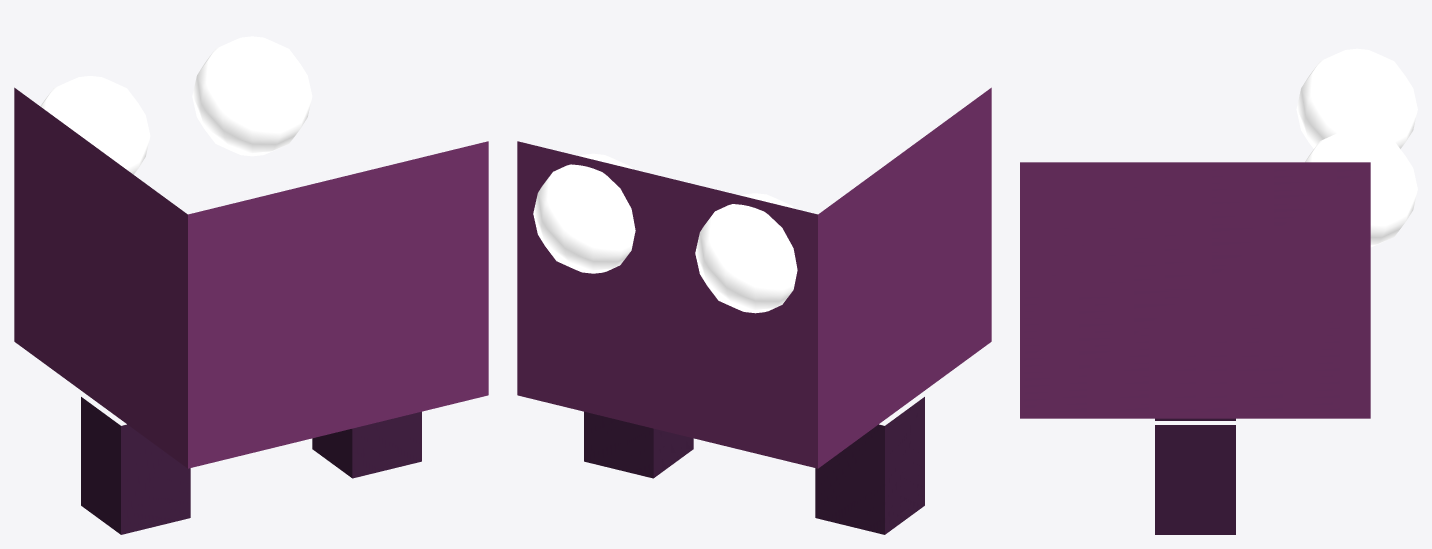
The model's file is model.enemy.glb.
3 renders of one model, left to right at view 1: azimuth 30°, elevation 25°; view 2: azimuth 150°, elevation 25°; view 3: azimuth 270°, elevation 25°, orthographic.
Visible parts, largest first — view 1: enemy; view 2: enemy; view 3: enemy.
Boxes of the visible parts, left/top/right/bottom form: enemy: left=14, top=36, right=488, bottom=534; enemy: left=517, top=87, right=991, bottom=534; enemy: left=1020, top=48, right=1417, bottom=534.
Size of the model in its own units: 0.52 by 0.6101 by 0.5901.
